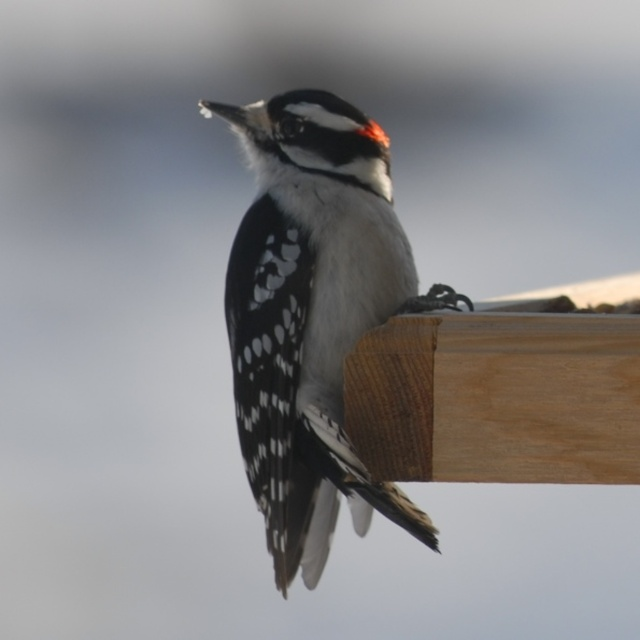Woodpecker: (198, 89, 475, 601)
